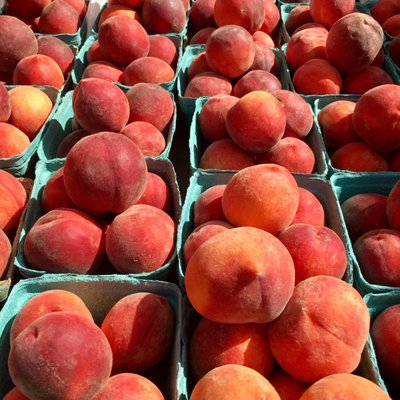steak: (182, 166, 379, 394), (183, 166, 368, 327), (3, 283, 185, 400), (267, 274, 370, 384), (184, 225, 296, 326), (284, 0, 400, 96), (195, 89, 318, 175), (318, 84, 400, 173), (341, 179, 400, 289), (188, 317, 275, 383), (23, 209, 105, 275), (370, 303, 400, 400)
sushi: (1, 276, 184, 400)
